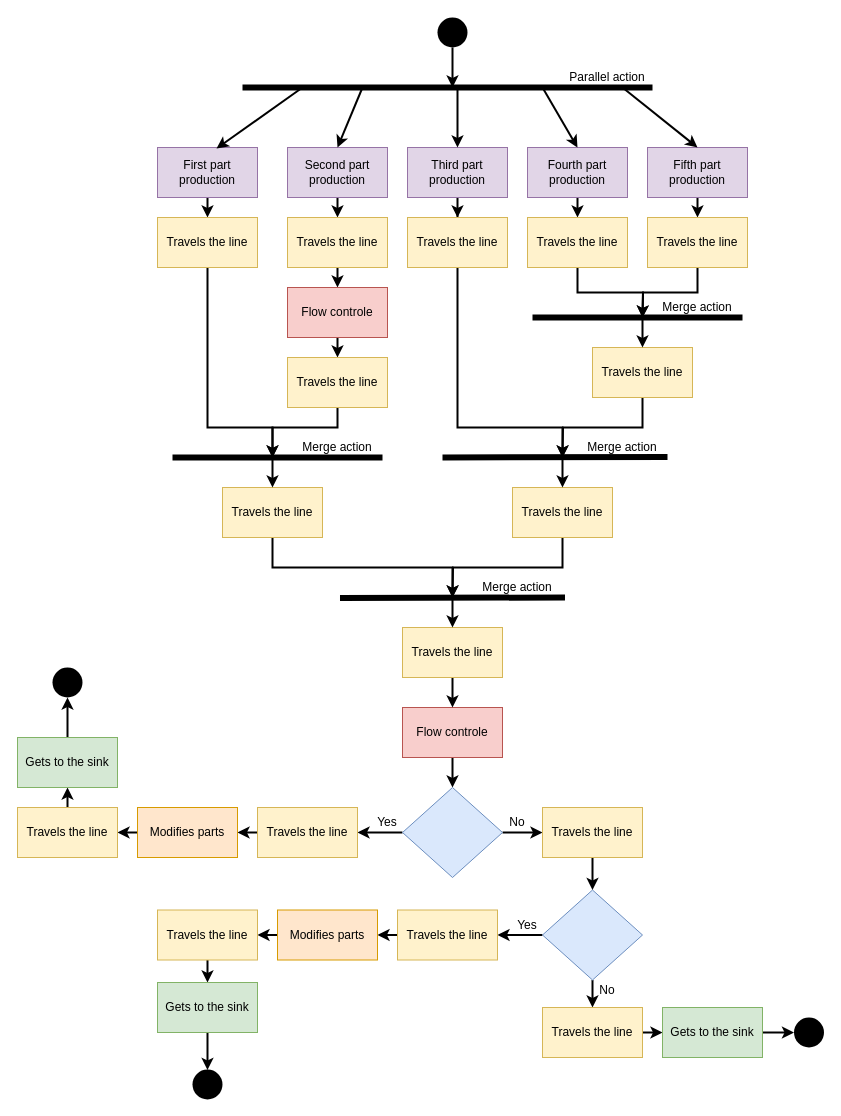
The diagram is 841 pixels wide and 1116 high, and some of its shapes have lost their labels. Here are the shapes that lost their labels. From the top down, the centre of each, then its label:
[452,832]: Third or fifth producers part?
[592,934]: Second producers part?
